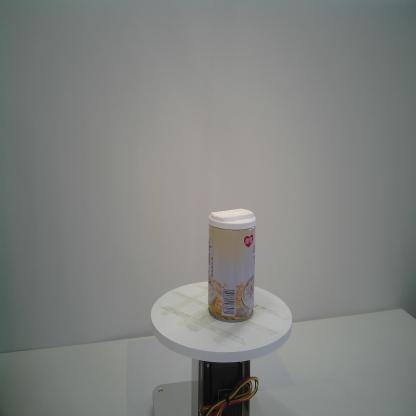Canned Food: (206, 206, 258, 326)
